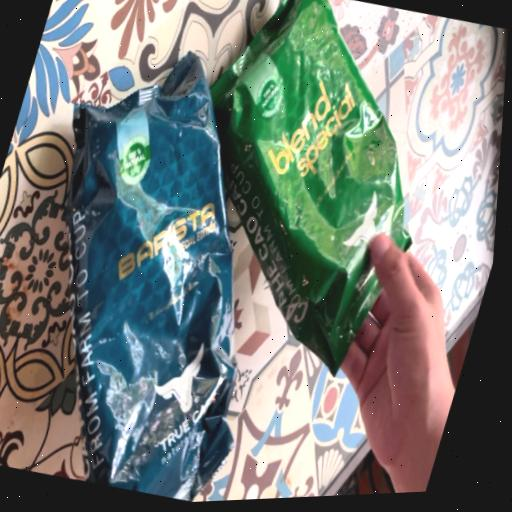cafe_hat: (65, 53, 235, 501)
cafe_xay: (210, 0, 411, 372)
